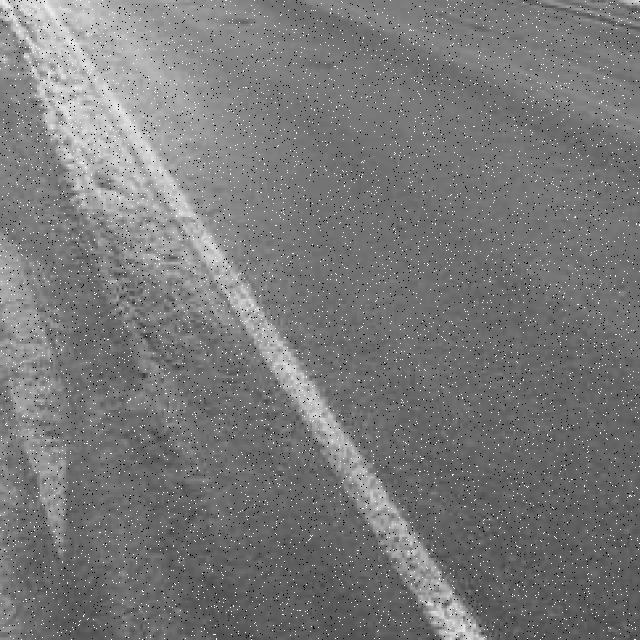ice-road: (51, 0, 640, 640)
